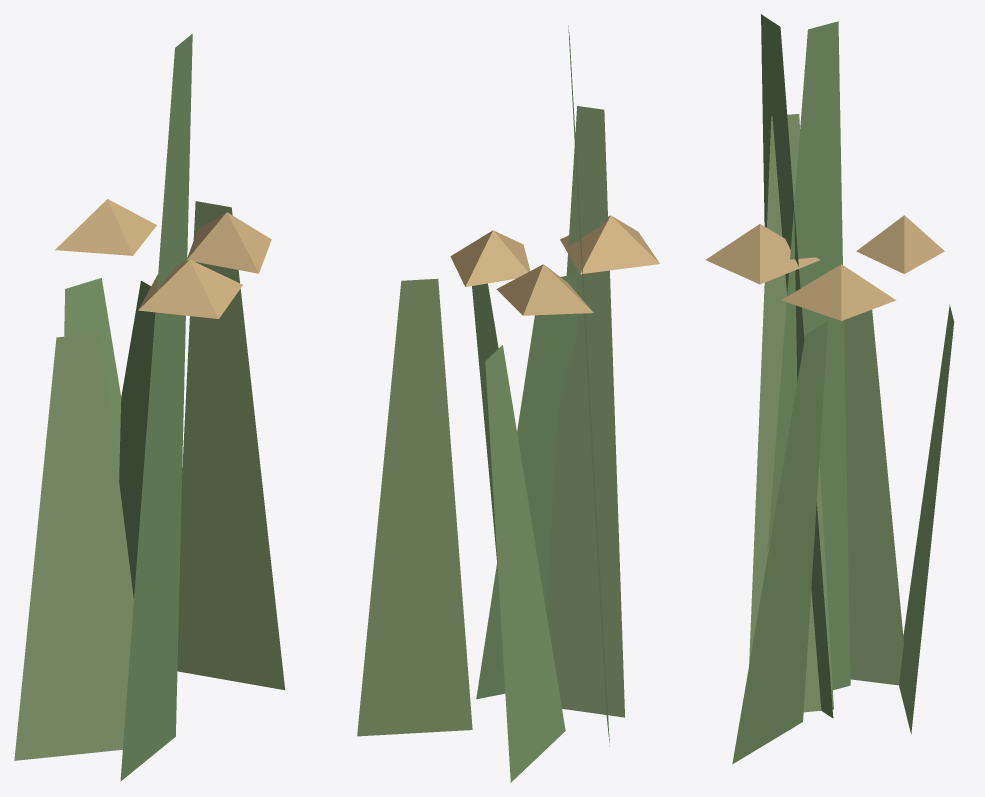
Rendered from crop.temp.wheat__bloom.glb.
The picture shows the model from 3 angles, left to right: view 1: azimuth 30°, elevation 25°; view 2: azimuth 150°, elevation 25°; view 3: azimuth 270°, elevation 25°; orthographic projection. The views are drawn at different scales.
Parts seen in each view (by area): view 1: crop.temp.wheat__bloom; view 2: crop.temp.wheat__bloom; view 3: crop.temp.wheat__bloom.
Part boxes in pixels (x1=…): crop.temp.wheat__bloom: x1=14, y1=34, x2=285, y2=780; crop.temp.wheat__bloom: x1=357, y1=26, x2=659, y2=782; crop.temp.wheat__bloom: x1=706, y1=14, x2=954, y2=764.
Bounding box in the file's own units: 0.4129 × 1 × 0.352.
